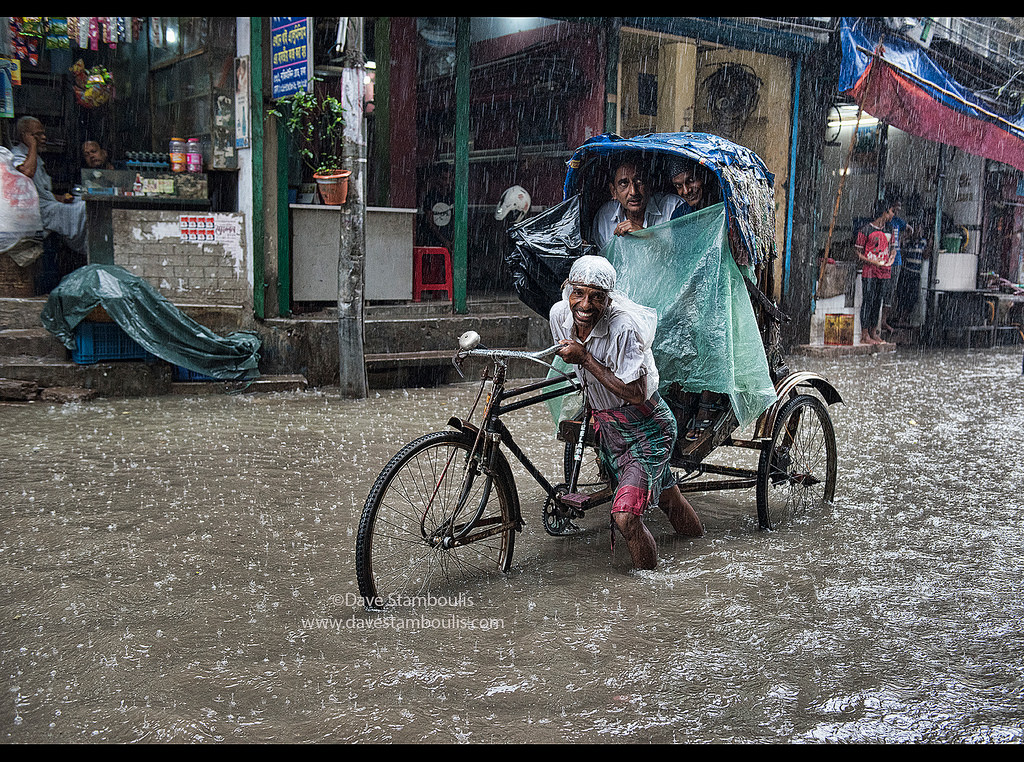Rickshaw: (362, 124, 847, 591)
